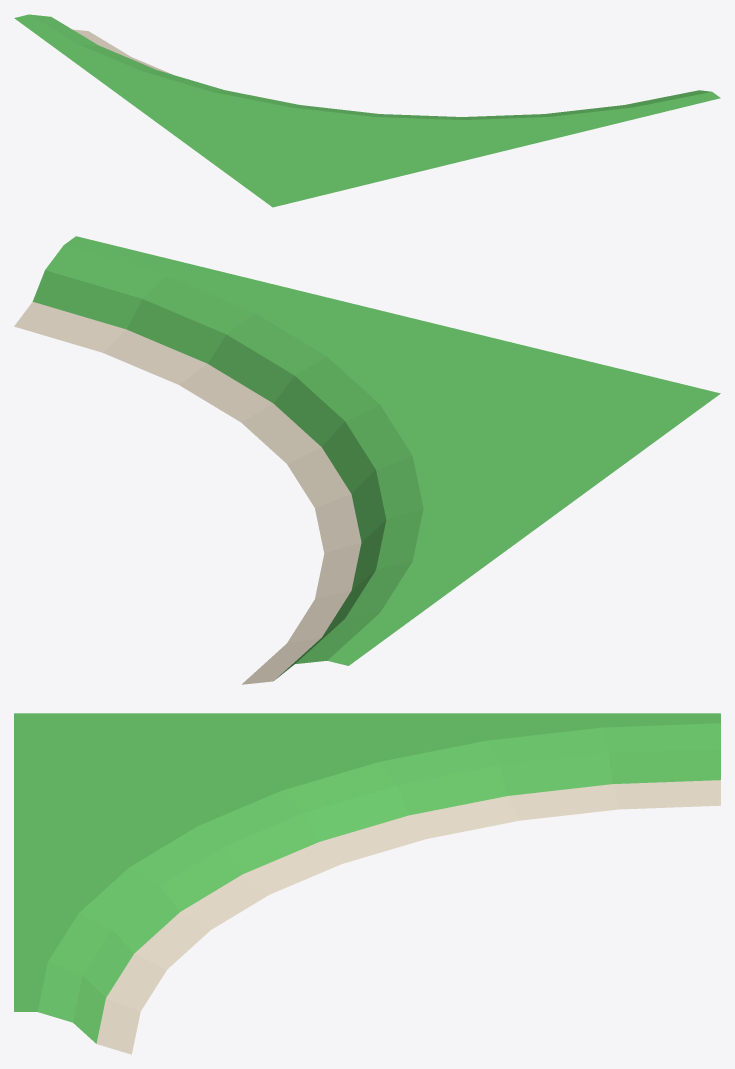
The model's file is Hilly_Terrain_Path_Corner_Outer_3x3.glb.
The picture shows the model from 3 angles, top to bottom: view 1: azimuth 30°, elevation 25°; view 2: azimuth 150°, elevation 25°; view 3: azimuth 270°, elevation 25°; orthographic projection. The views are drawn at different scales.
Parts seen in each view (by area): view 1: Hilly_Terrain_Path_Corner_Outer_3x3; view 2: Hilly_Terrain_Path_Corner_Outer_3x3; view 3: Hilly_Terrain_Path_Corner_Outer_3x3.
Part boxes in pixels (x1,y1,x2,y2): Hilly_Terrain_Path_Corner_Outer_3x3: (14,14,720,207); Hilly_Terrain_Path_Corner_Outer_3x3: (14,236,720,684); Hilly_Terrain_Path_Corner_Outer_3x3: (14,713,720,1054).
Size of the model in its own units: 1.59 by 0.106 by 1.59.
